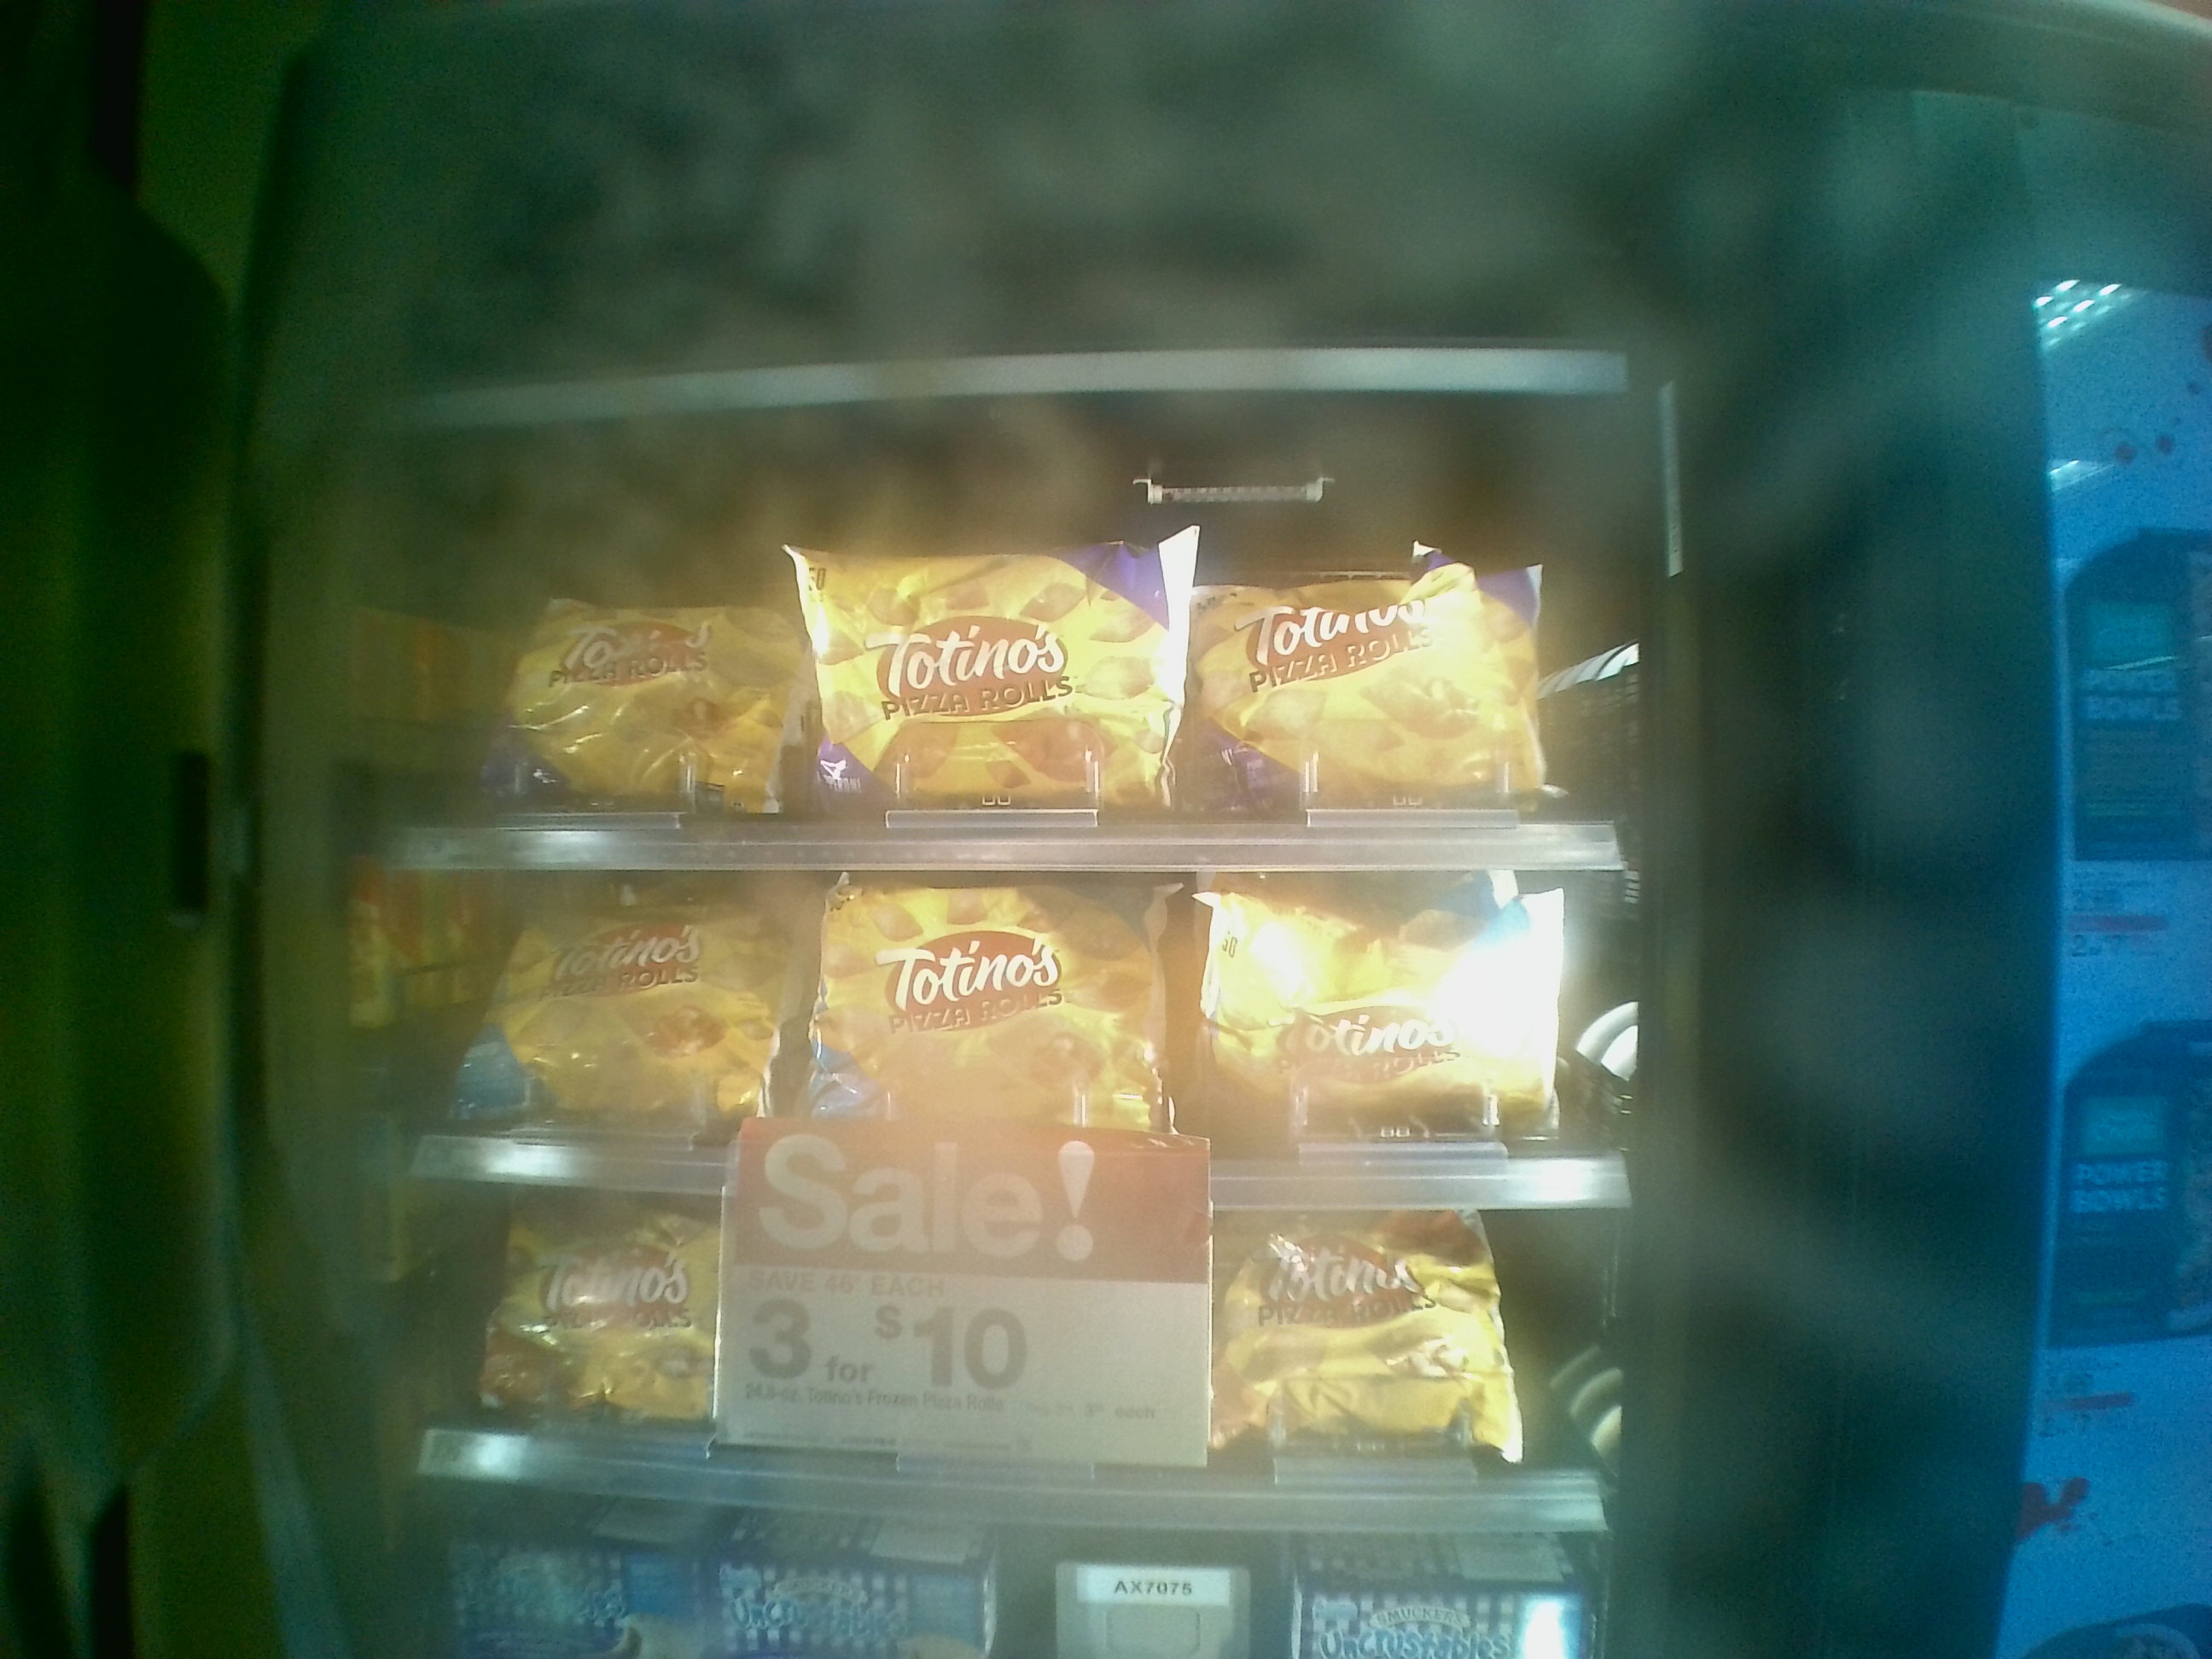shelf: (340, 497, 1635, 864), (381, 1154, 1608, 1521), (408, 823, 1597, 1197)
